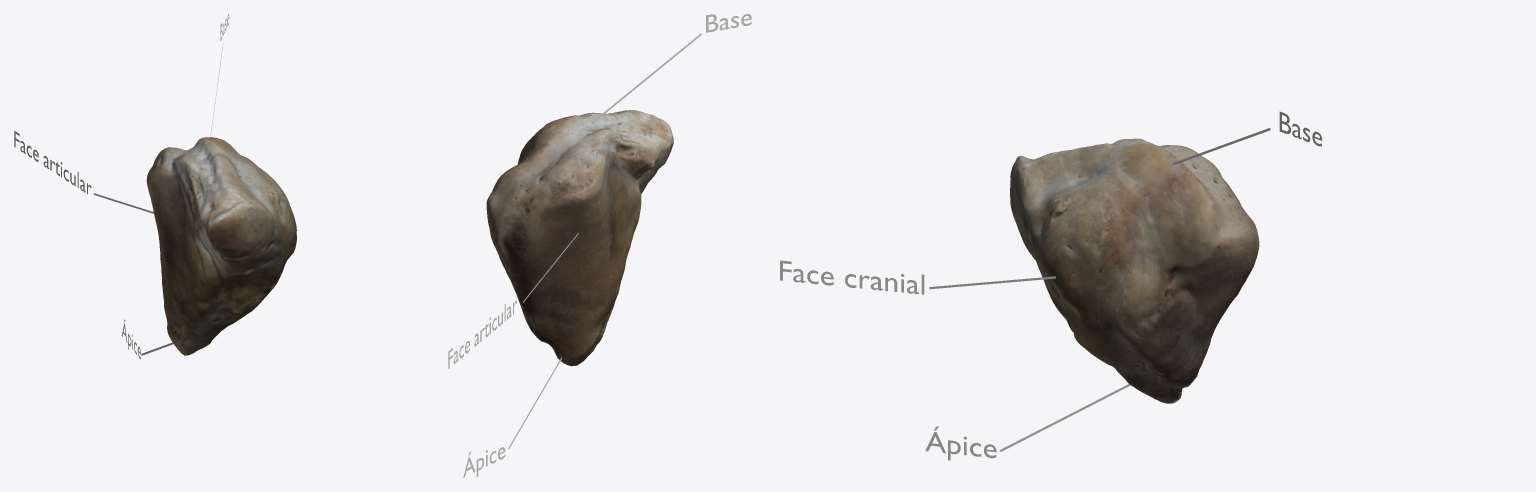
File: Patela.glb
3 views of the same model, side by side, from view 1: azimuth 30°, elevation 25°; view 2: azimuth 150°, elevation 25°; view 3: azimuth 270°, elevation 25° (orthographic). The views are drawn at different scales.
Parts seen in each view (by area): view 1: 3DModel.001, Texto.011; view 2: 3DModel.001, Texto.011, Texto.010; view 3: 3DModel.001, Texto.022.
Boxes of the visible parts, <box> form: 3DModel.001: <box>146,137,296,355</box>; Texto.011: <box>14,131,91,194</box>; 3DModel.001: <box>486,110,673,366</box>; Texto.011: <box>448,301,516,368</box>; Texto.010: <box>706,14,751,32</box>; 3DModel.001: <box>1010,138,1259,403</box>; Texto.022: <box>780,260,924,294</box>.
Size of the model in its own units: 0.8657 by 1.54 by 2.48.
Materials: 1 (1 with a texture image).
